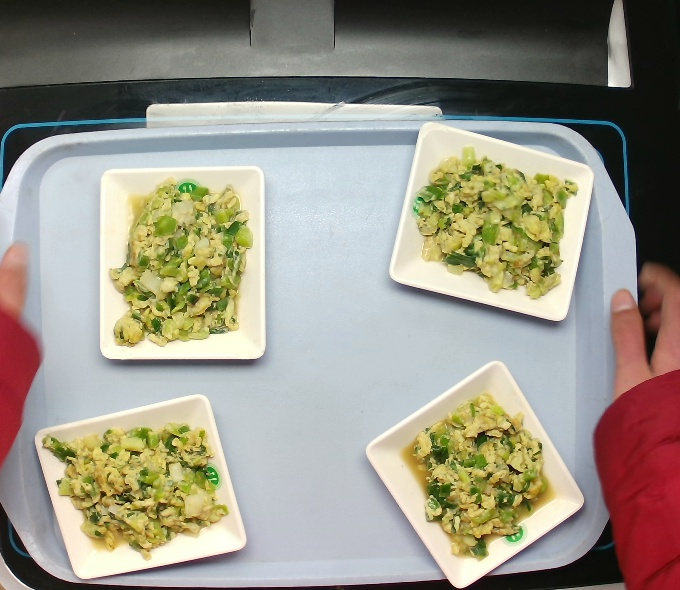wcq-SuanMiaoChaoDan: (38, 402, 235, 562), (399, 389, 554, 573), (407, 143, 581, 305), (109, 172, 258, 353)
